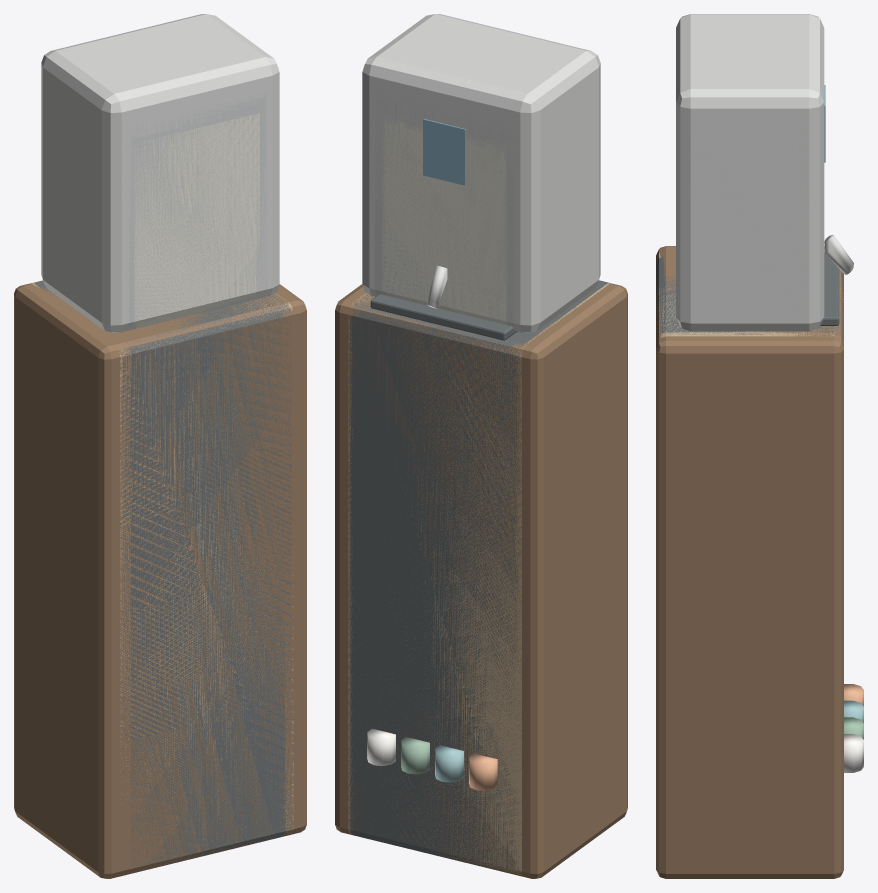
File: Gear17.fbx
3 renders of one model, left to right at view 1: azimuth 30°, elevation 25°; view 2: azimuth 150°, elevation 25°; view 3: azimuth 270°, elevation 25°, orthographic.
Parts seen in each view (by area): view 1: Gear17_V10_Walnut, Gear17_V1_Charcoal, Gear17_V10_Chrome, Gear17_V2_Charcoal, Gear17_V1_Ivory, Gear17_V5_Charcoal, Gear17_V9_Walnut, Gear17_V4_BrushedSteel, Gear17_V6_Oak, Gear17_V7_Walnut, Gear17_V3_Ivory, Gear17_V8_Walnut (+7 smaller); view 2: Gear17_V10_Walnut, Gear17_V3_Charcoal, Gear17_V10_Chrome, Gear17_V4_Charcoal, Gear17_V6_Oak, Gear17_V1_Ivory, Gear17_V2_Ivory, Gear17_V9_Chrome, Gear17_V7_Walnut, Gear17_V6_BrushedSteel, Gear17_V1_Charcoal, Gear17_V5_Charcoal (+15 smaller); view 3: Gear17_V10_Walnut, Gear17_V10_Chrome, Gear17_V6_Oak, Gear17_V2_Charcoal, Gear17_V7_Charcoal, Gear17_V1_Charcoal, Gear17_V1_Paper, Gear17_V8_Walnut.
Boxes of the visible parts, x1,y1,x2,y2 form: Gear17_V10_Walnut: (14,284,306,878); Gear17_V1_Charcoal: (42,281,283,867); Gear17_V10_Chrome: (41,14,279,332); Gear17_V2_Charcoal: (40,281,285,864); Gear17_V1_Ivory: (136,125,256,328); Gear17_V5_Charcoal: (34,283,291,865); Gear17_V9_Walnut: (26,284,300,876); Gear17_V4_BrushedSteel: (131,108,261,328); Gear17_V6_Oak: (30,280,293,874); Gear17_V7_Walnut: (27,283,295,868); Gear17_V3_Ivory: (134,113,259,325); Gear17_V8_Walnut: (24,284,295,876); Gear17_V10_Walnut: (335,284,627,878); Gear17_V3_Charcoal: (354,281,606,868); Gear17_V10_Chrome: (362,14,600,332); Gear17_V4_Charcoal: (352,282,607,869); Gear17_V6_Oak: (348,283,611,875); Gear17_V1_Ivory: (385,124,504,324); Gear17_V2_Ivory: (383,118,506,324); Gear17_V9_Chrome: (371,81,520,331); Gear17_V7_Walnut: (346,283,614,876); Gear17_V6_BrushedSteel: (376,97,514,328); Gear17_V1_Charcoal: (358,280,602,861); Gear17_V5_Charcoal: (350,282,610,875); Gear17_V10_Walnut: (656,246,843,878); Gear17_V10_Chrome: (676,14,853,331); Gear17_V6_Oak: (656,251,843,344); Gear17_V2_Charcoal: (656,257,843,334); Gear17_V7_Charcoal: (824,254,838,315); Gear17_V1_Charcoal: (656,257,843,336); Gear17_V1_Paper: (844,734,863,772); Gear17_V8_Walnut: (656,248,843,338).
Size of the model in its own units: 49 by 174 by 42.
